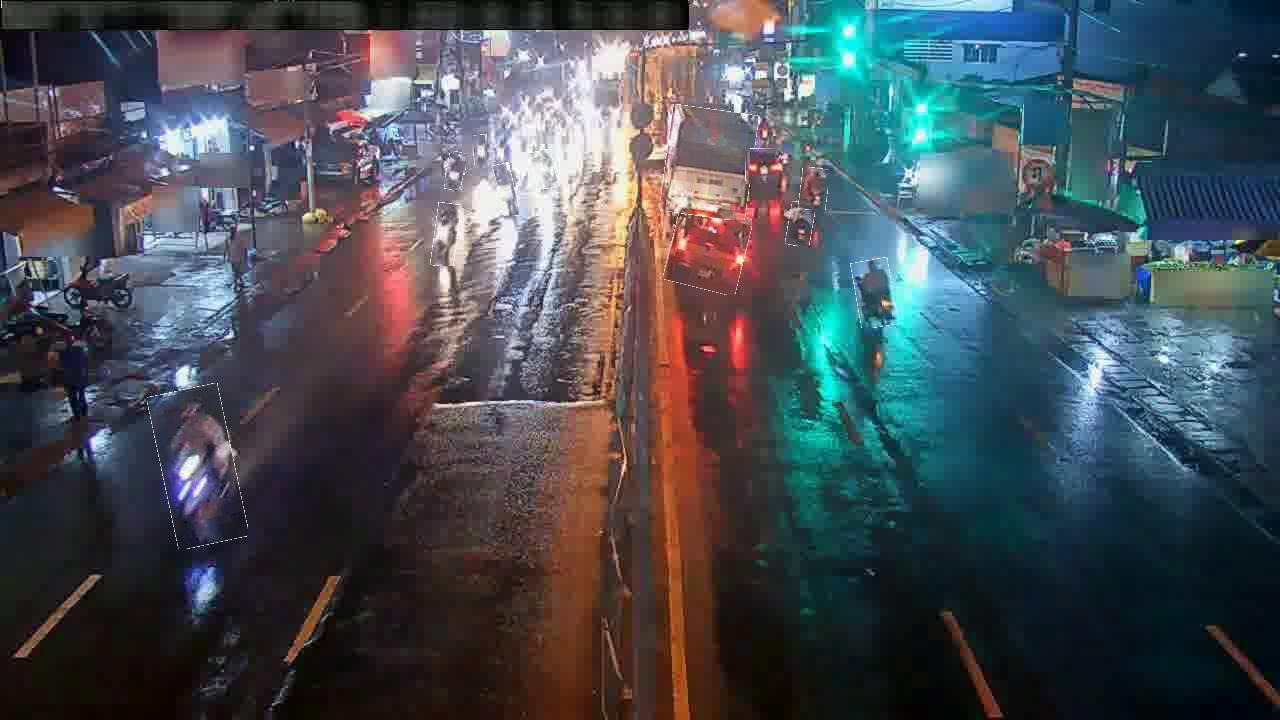8: (663, 107, 756, 219)
container: (667, 206, 749, 293), (746, 149, 782, 185)
motorbike: (154, 386, 242, 548), (853, 259, 896, 328), (432, 203, 459, 267), (787, 202, 815, 247), (799, 168, 828, 211), (496, 163, 518, 217), (531, 150, 556, 190), (446, 152, 466, 191), (474, 135, 488, 166)
